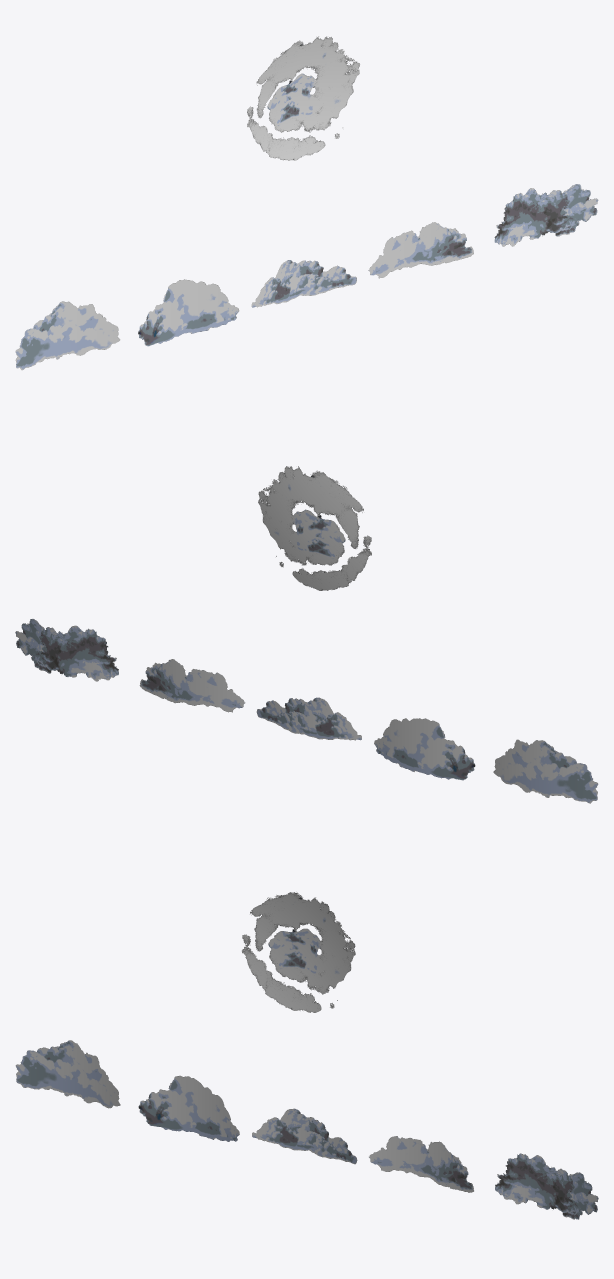
File: Clouds.fbx
The picture shows the model from 3 angles, top to bottom: view 1: azimuth 30°, elevation 25°; view 2: azimuth 150°, elevation 25°; view 3: azimuth 330°, elevation 25°; orthographic projection.
Parts seen in each view (by area): view 1: Cloud_top, Cloud_3, Cloud_5, Cloud_2, Cloud_4, Cloud_1; view 2: Cloud_top, Cloud_3, Cloud_5, Cloud_2, Cloud_4, Cloud_1; view 3: Cloud_top, Cloud_3, Cloud_5, Cloud_2, Cloud_4, Cloud_1.
Boxes of the visible parts, x1,y1,x2,y2 form: Cloud_top: (247,36,359,160); Cloud_3: (15,301,120,370); Cloud_5: (494,184,598,246); Cloud_2: (138,279,239,346); Cloud_4: (368,222,473,278); Cloud_1: (251,260,356,307); Cloud_top: (258,466,371,590); Cloud_3: (493,739,598,803); Cloud_5: (15,619,118,681); Cloud_2: (374,718,475,780); Cloud_4: (139,659,245,712); Cloud_1: (256,697,361,740); Cloud_top: (242,892,355,1012); Cloud_3: (15,1040,120,1108); Cloud_5: (495,1153,598,1219); Cloud_2: (138,1075,239,1141); Cloud_4: (369,1136,473,1192); Cloud_1: (252,1108,357,1164).
Size of the model in its own units: 64.17 by 32.6 by 2.09.
